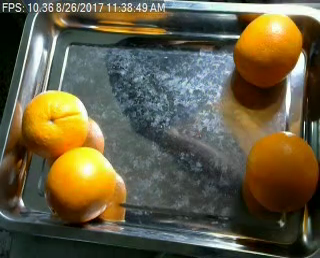Orange: (245, 131, 318, 213), (46, 146, 118, 222), (235, 13, 303, 87), (21, 89, 88, 157)
